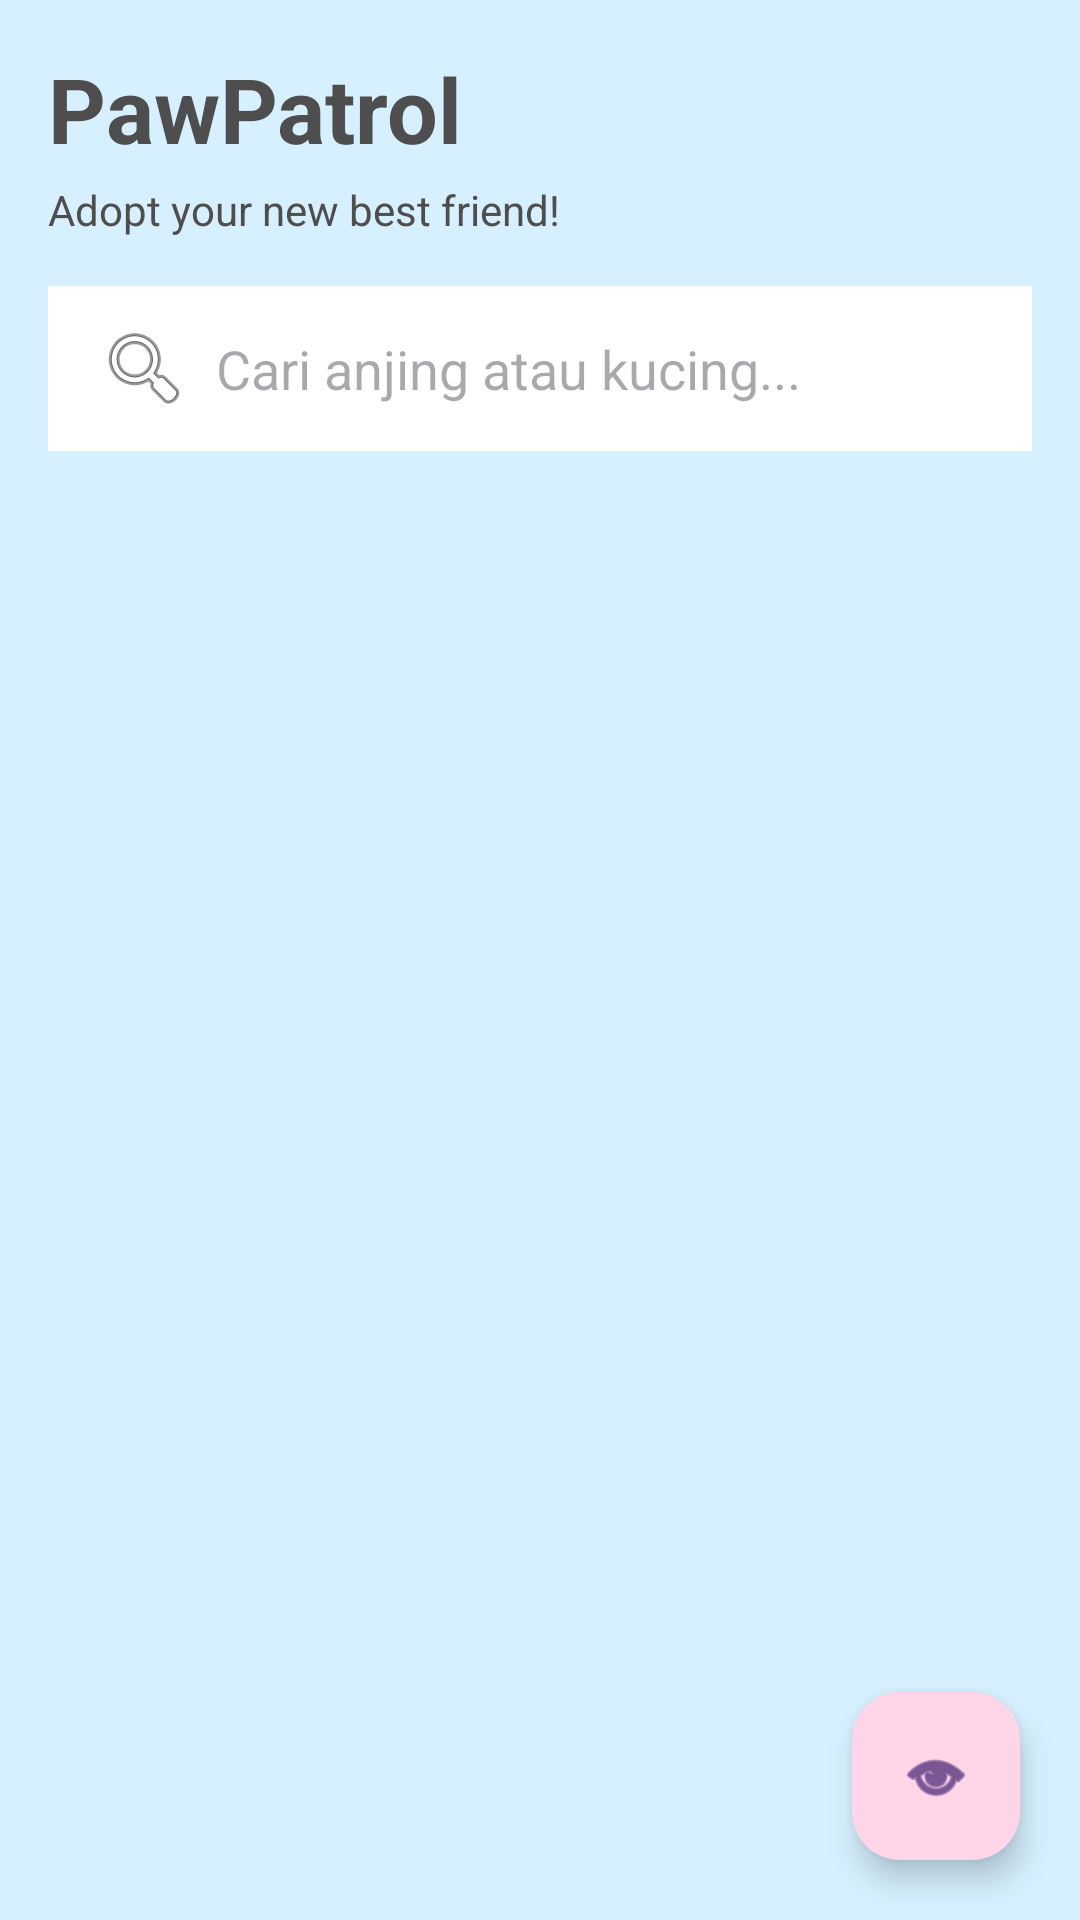

Screen size 1080x1920. Icon name, then its box in pixels as Rect(x1, y1, x2, y2):
view: Rect(852, 1692, 1020, 1860)
